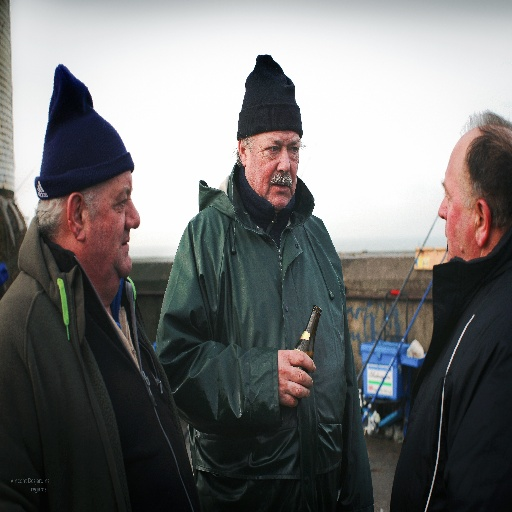hand: (279, 338, 320, 403)
